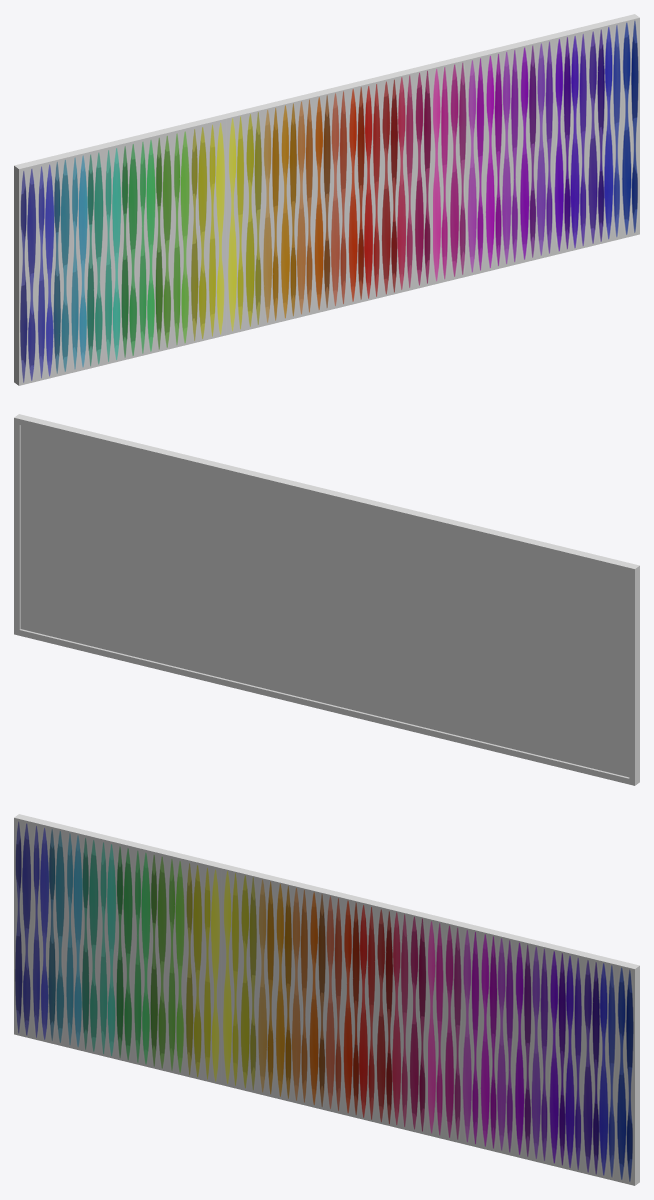
The model's file is Wall_Art_C_5.FBX.
3 renders of one model, top to bottom at view 1: azimuth 30°, elevation 25°; view 2: azimuth 150°, elevation 25°; view 3: azimuth 330°, elevation 25°, orthographic.
Parts seen in each view (by area): view 1: Wall_Art_B; view 2: Wall_Art_B; view 3: Wall_Art_B.
Part boxes in pixels (<box>): Wall_Art_B: <box>14,14,639,385</box>; Wall_Art_B: <box>14,414,639,785</box>; Wall_Art_B: <box>14,814,639,1185</box>.
Bounding box in the file's own units: 570 × 190 × 8.
